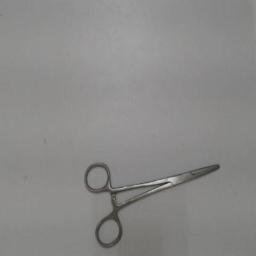Mayo Needle Holder: (79, 152, 227, 252)
